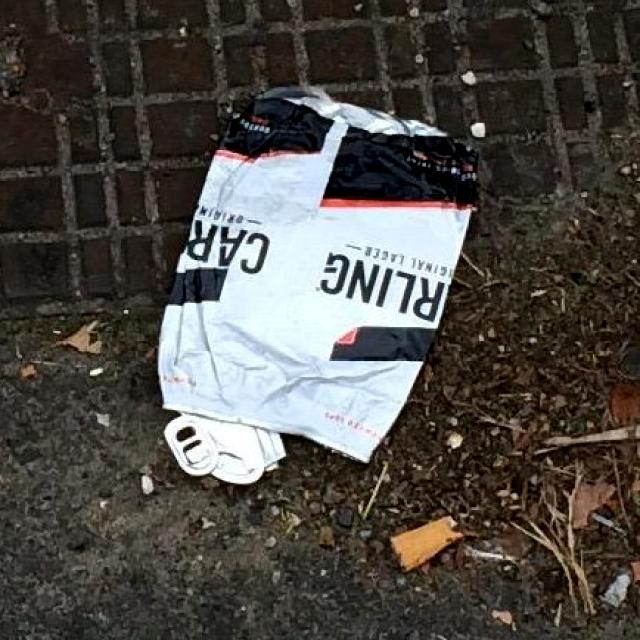Metal: (137, 68, 514, 486)
